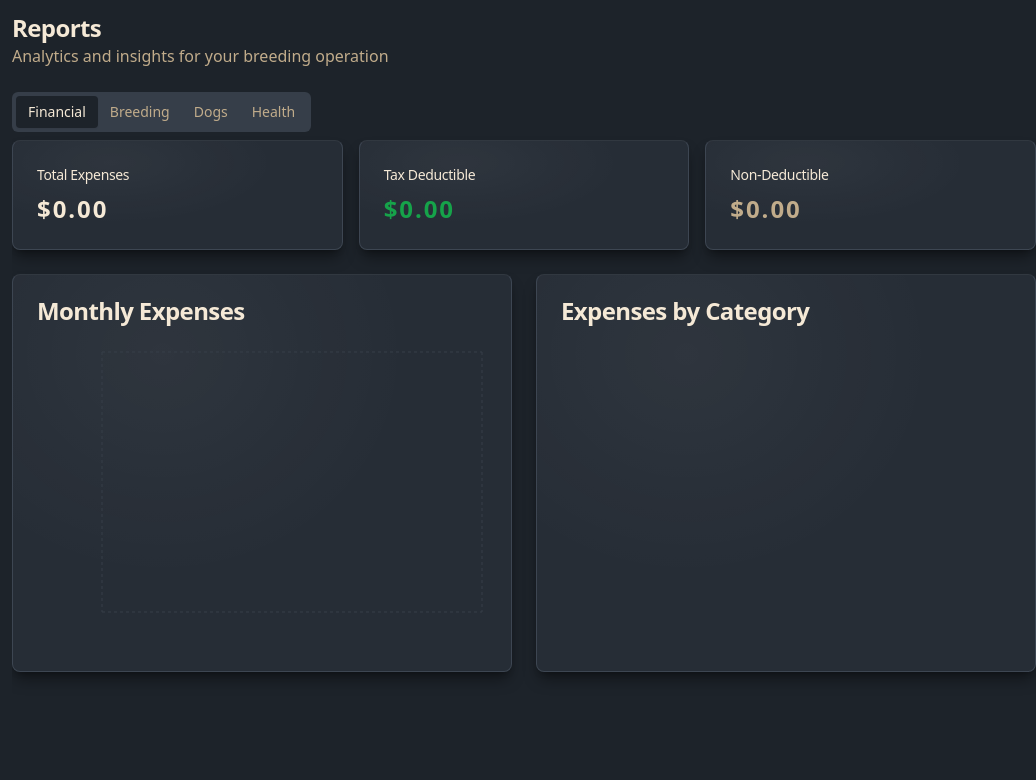
Test: ReportsPage › Dogs tab › displays dog status distribution chart
Switch to Dogs tab
Click the tab "Dogs": (211, 112) [182,96,240,128]
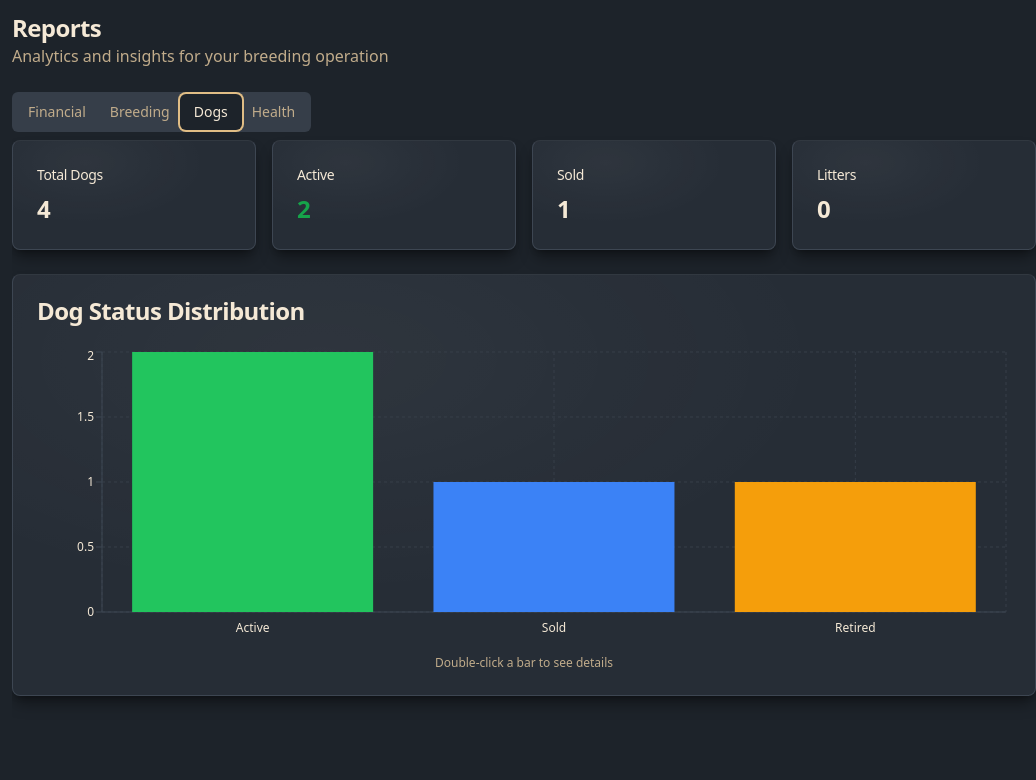
Result: the heading "Dog Status Distribution" is shown at [37,294,305,327]
